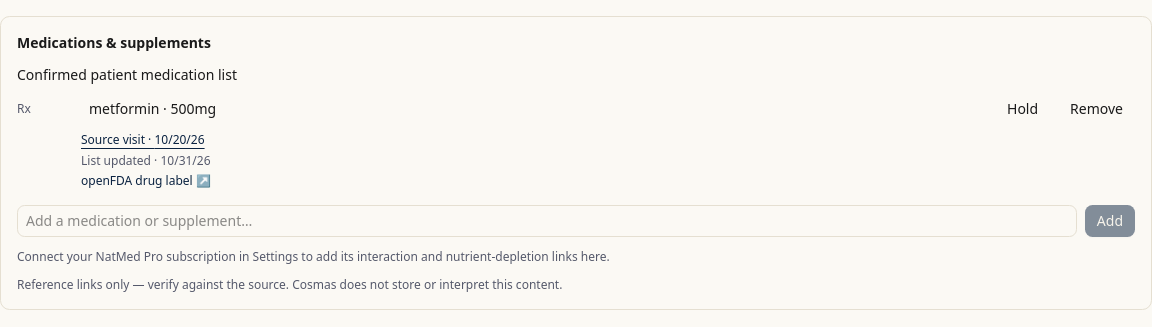
MedicationPanel › holds and resumes only the explicit confirmed patient row, preserving dated provenance
What coordinates should you click on to do the following:
click the button "Hold"
I would click on:
 (1023, 109)
Its box is [995,93,1050,125].
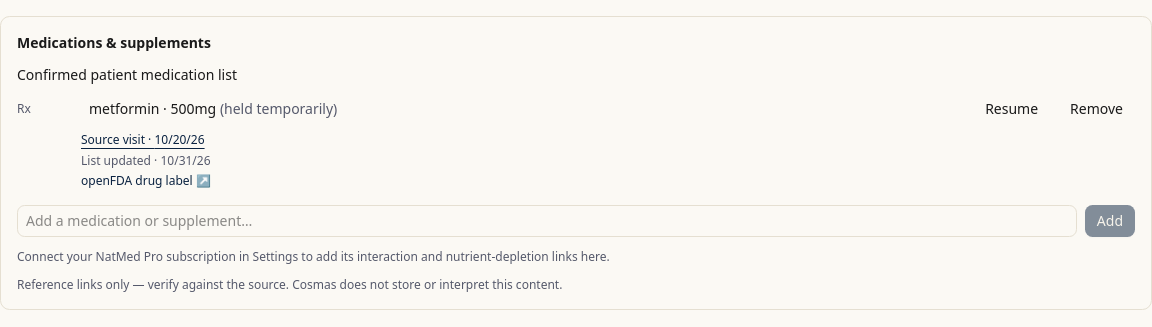
Expected: the list item with test id "confirmed-medication" shows "Source visit · 10/20/26", [17,93,1135,189]
Result: the button "Resume" is shown
What coordinates should you click on to do the following:
click the button "Resume"
I would click on:
 (1012, 109)
Its box is [973,93,1050,125].
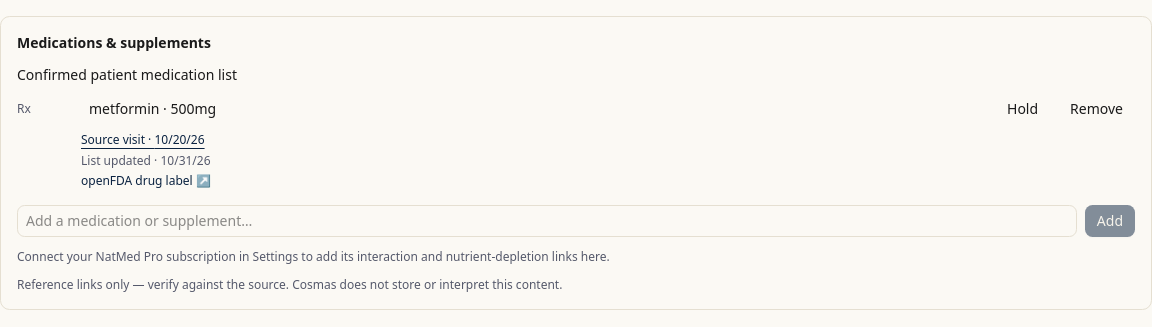
Result: the button "Hold" is shown at [995,93,1050,125]
Result: the text "held temporarily" is gone
